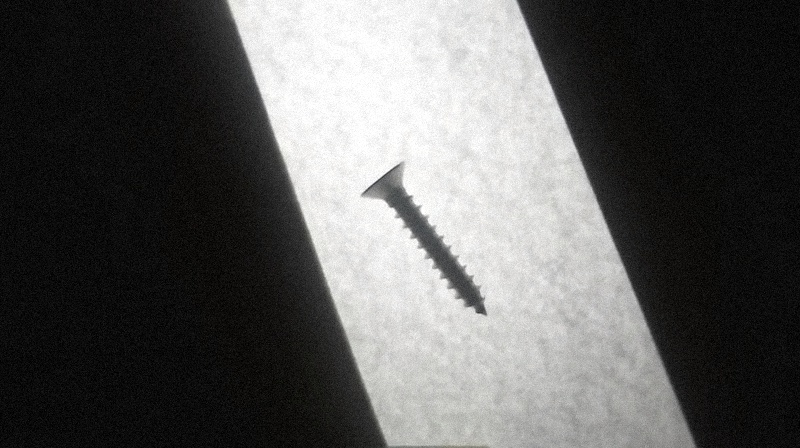S001: (355, 158, 491, 322)
